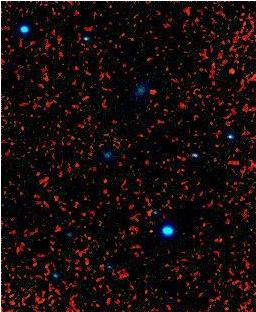star: (215, 54, 245, 84)
